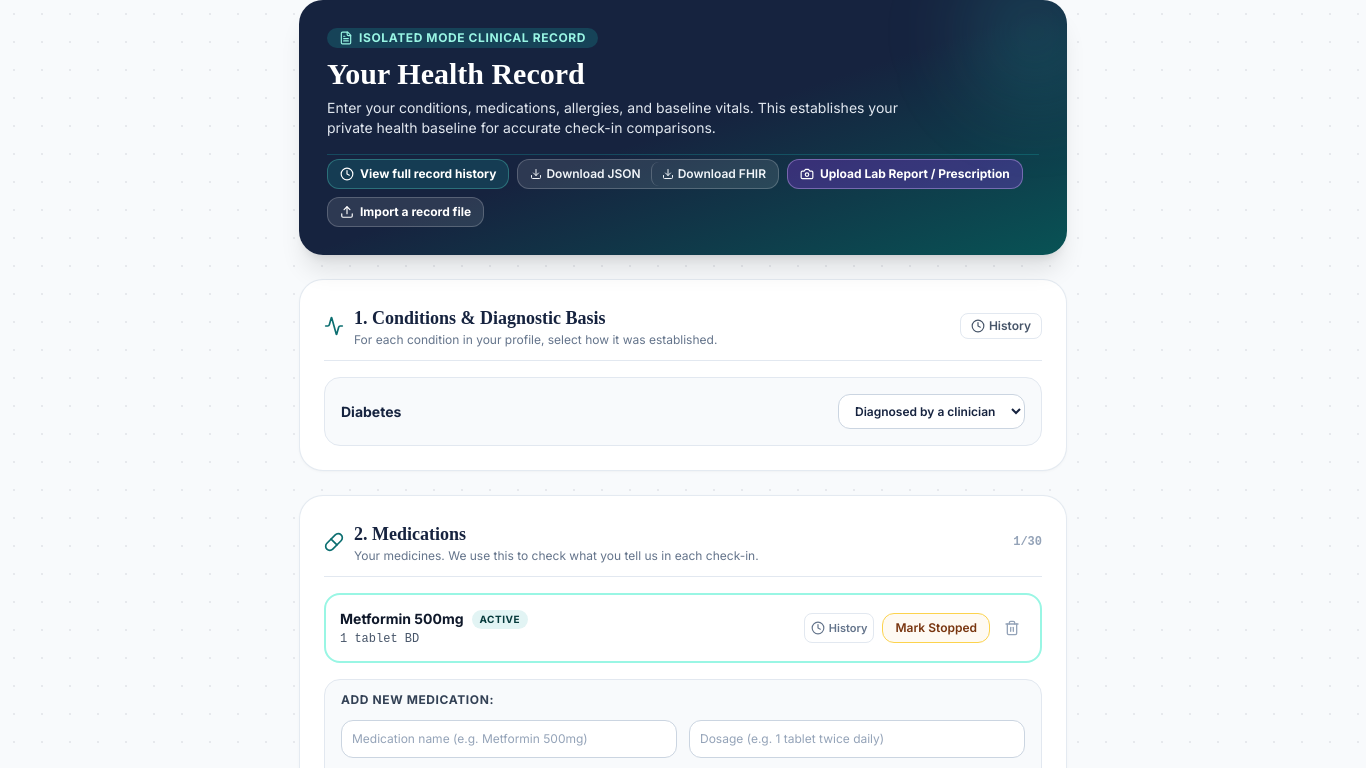
Test: Record History UI (HealthRecordScreen) › renders empty state when edits list is empty
Click the button with test id "view-full-history-btn" at [418, 174], box [327,159,509,189]
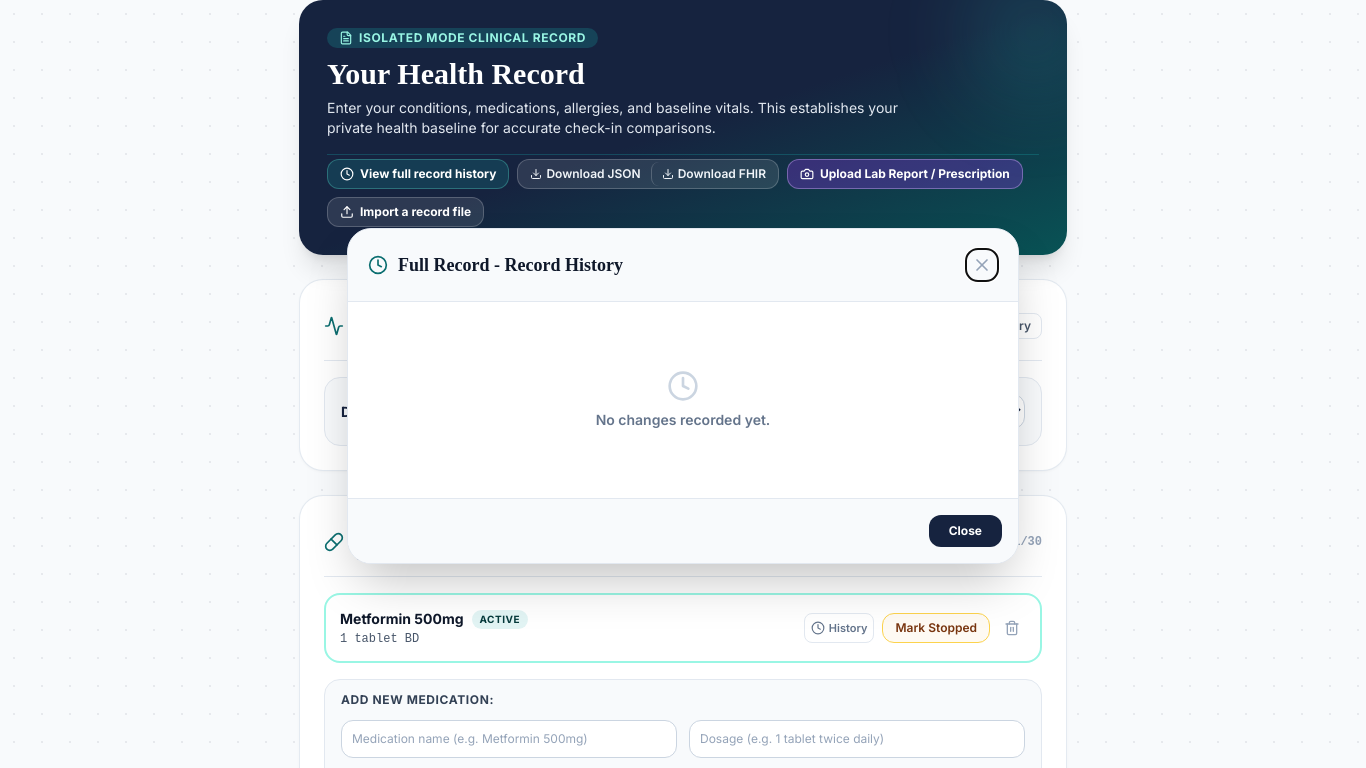
Expected: the dialog with test id "record-history-modal" is shown, [347,228,1019,564]
Expected: the text "No changes recorded yet." is shown, [596,411,770,428]
